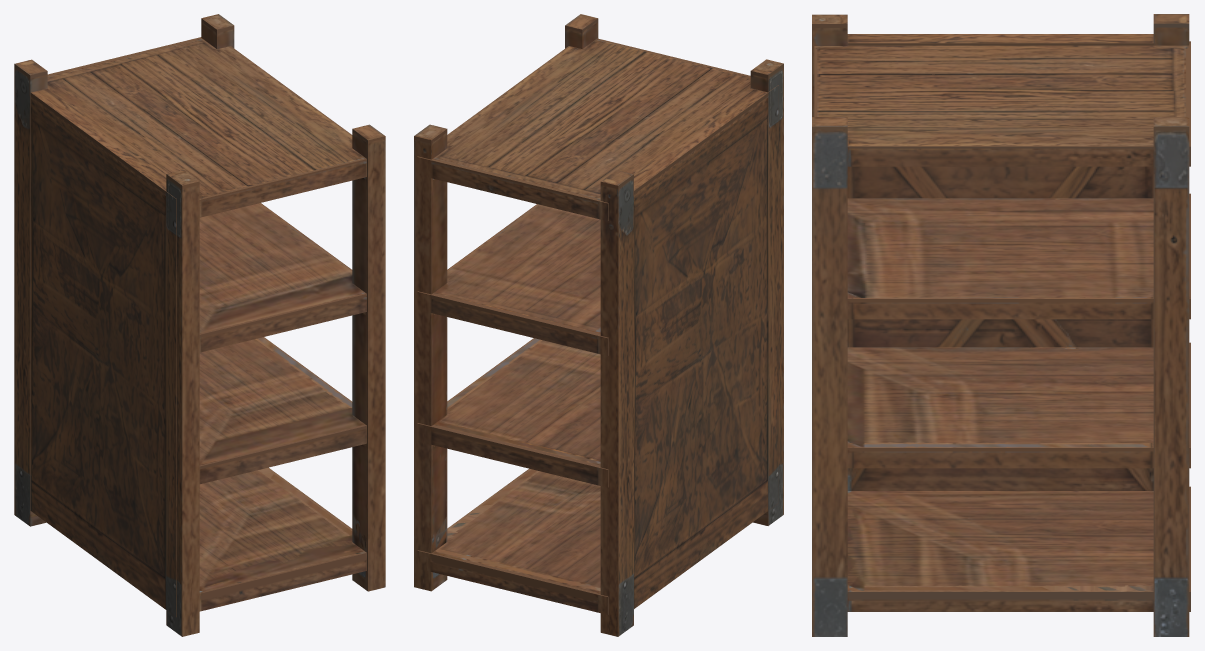
The model's file is StorageRack.fbx.
3 renders of one model, left to right at view 1: azimuth 30°, elevation 25°; view 2: azimuth 150°, elevation 25°; view 3: azimuth 270°, elevation 25°, orthographic. The views are drawn at different scales.
Visible parts, largest first — view 1: StorageRack_Low; view 2: StorageRack_Low; view 3: StorageRack_Low.
Part boxes in pixels (x1,y1,x2,y2): StorageRack_Low: [14, 14, 385, 636]; StorageRack_Low: [414, 14, 783, 636]; StorageRack_Low: [812, 14, 1190, 636].
Size of the model in its own units: 0.9959 by 2.1 by 1.41.
